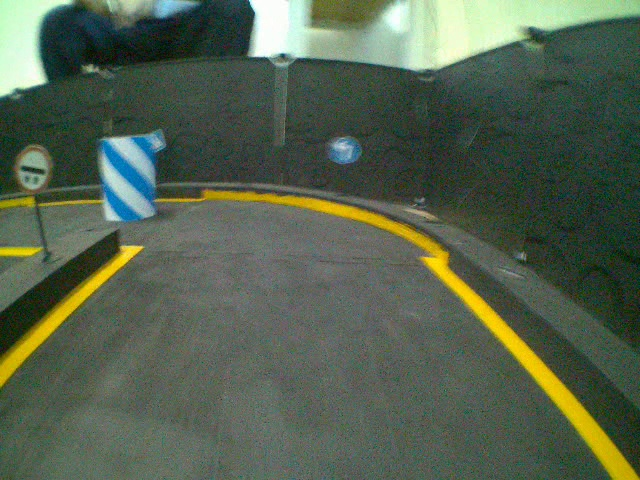bucket: (97, 134, 160, 222)
